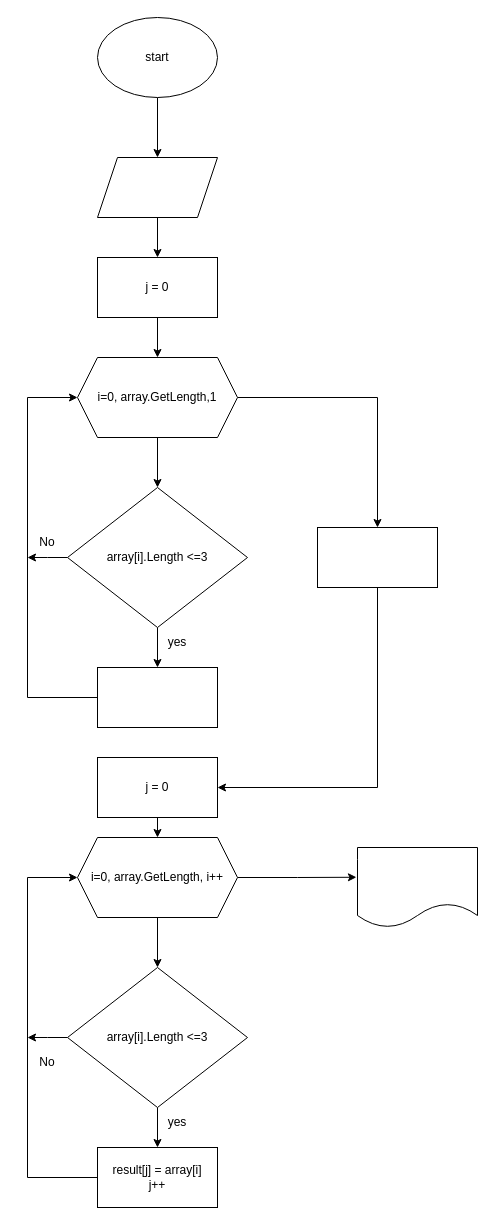
The diagram is 495 pixels wide and 1225 high, and some of its shapes have lost their labels. Here are the shapes that lost their labels. From the top down, the box of each, then its label:
(96, 156, 218, 218): start_array
(316, 526, 438, 588): result [j]
(96, 666, 218, 728): j++
(356, 846, 478, 928): result
